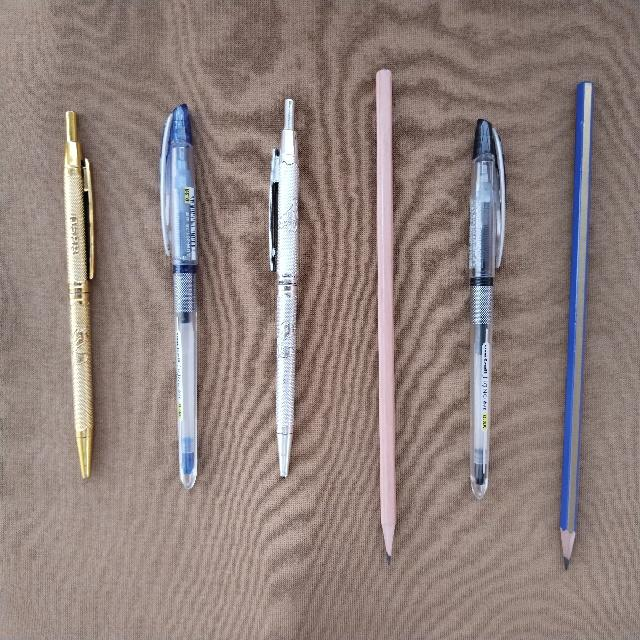pen: (160, 104, 196, 488), (469, 119, 504, 498)
pencil: (560, 82, 592, 568), (376, 70, 395, 561)
signature pen: (64, 111, 94, 477), (269, 99, 298, 476)
